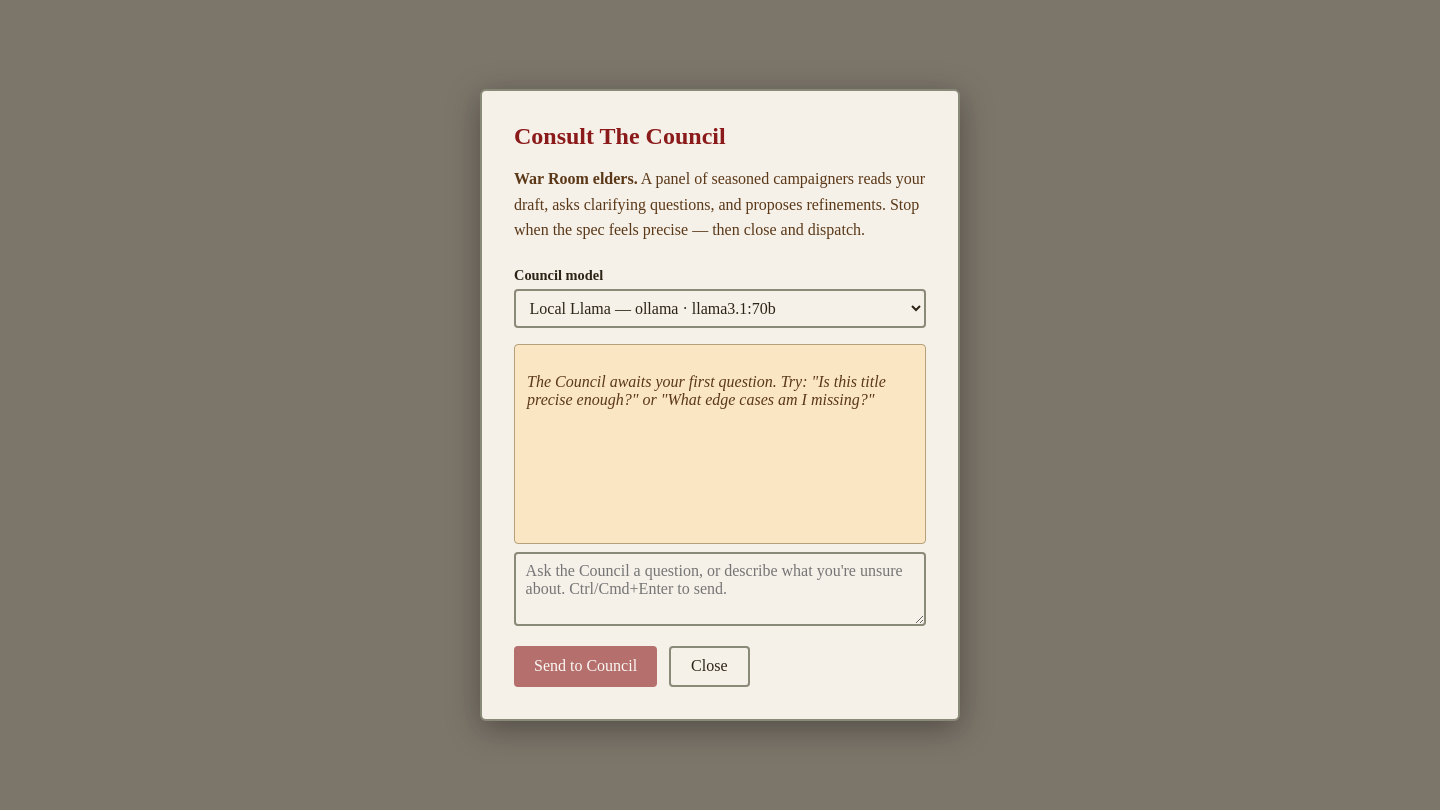
Test: CouncilModal › appends turns to history across multiple sends
Expected: the dropdown with test id "advisor-model-select" shows "Local Llama — ollama · llama3.1:70b", [514, 289, 926, 328]
Type "first" into the text box with test id "advisor-input" at (720, 589), box [514, 552, 926, 626]
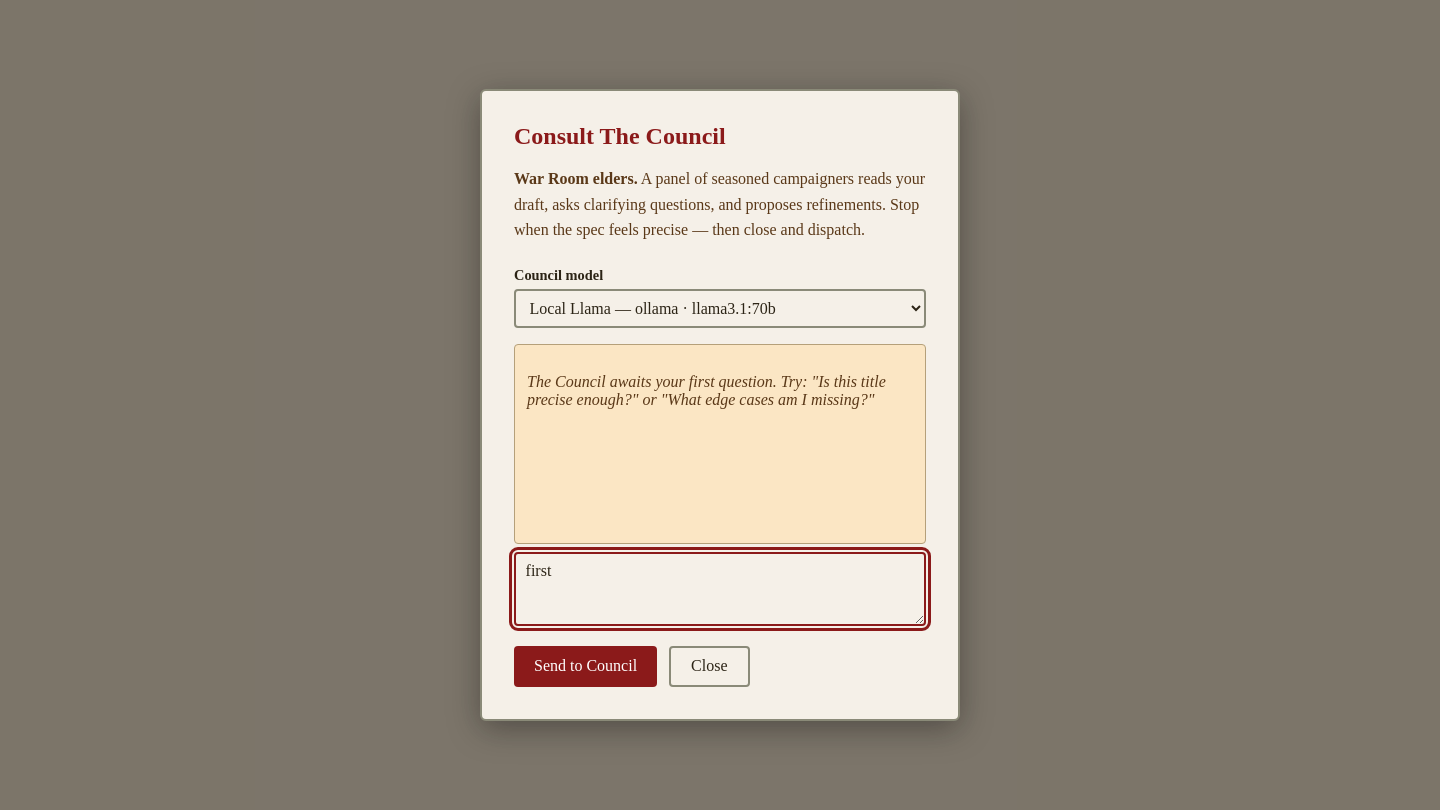
Click the button "Send to Council" at (586, 666), box [514, 646, 657, 687]
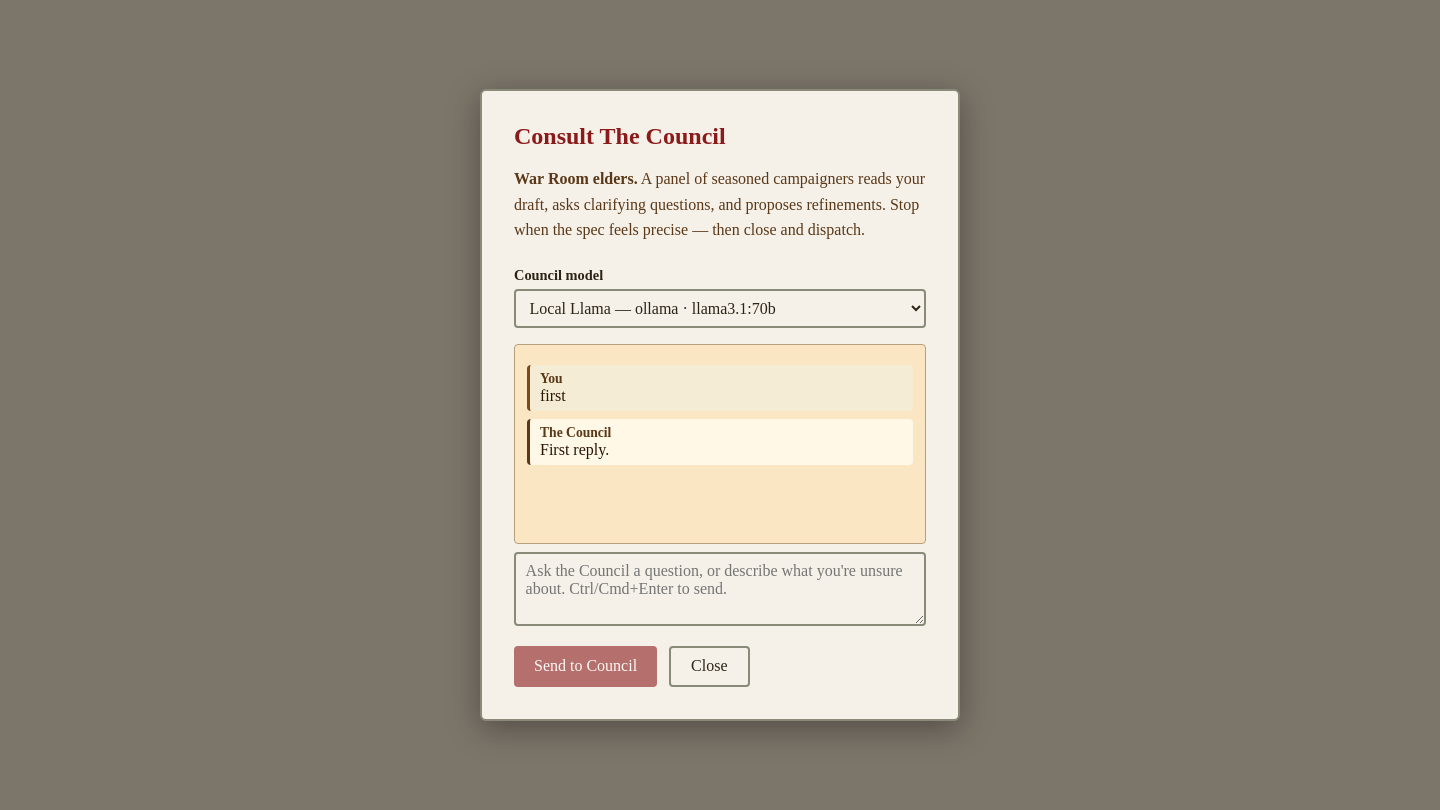
Expected: the text "First reply." is shown, [540, 441, 609, 458]
Type "second" into the text box with test id "advisor-input" at (720, 589), box [514, 552, 926, 626]
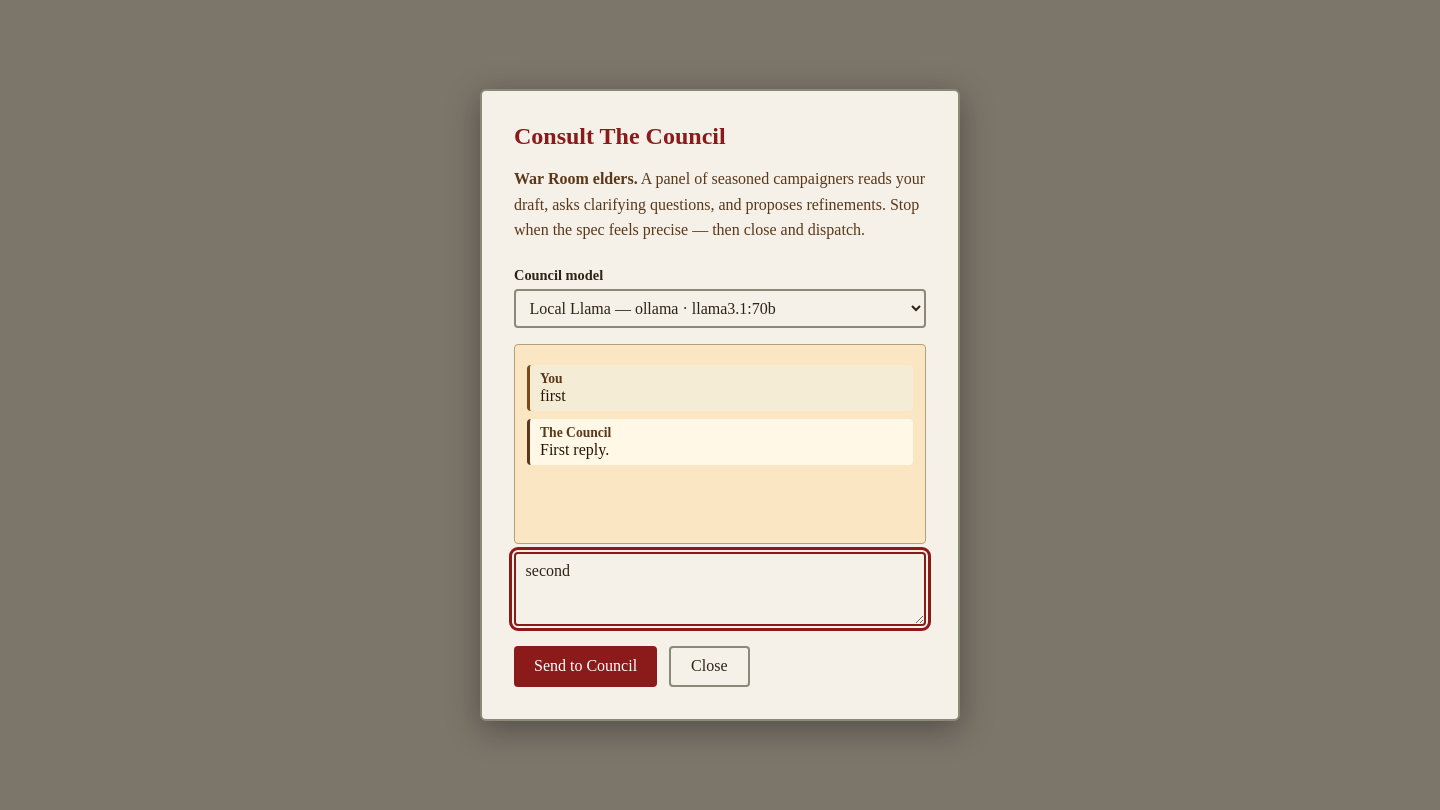
Click the button "Send to Council" at (586, 666), box [514, 646, 657, 687]
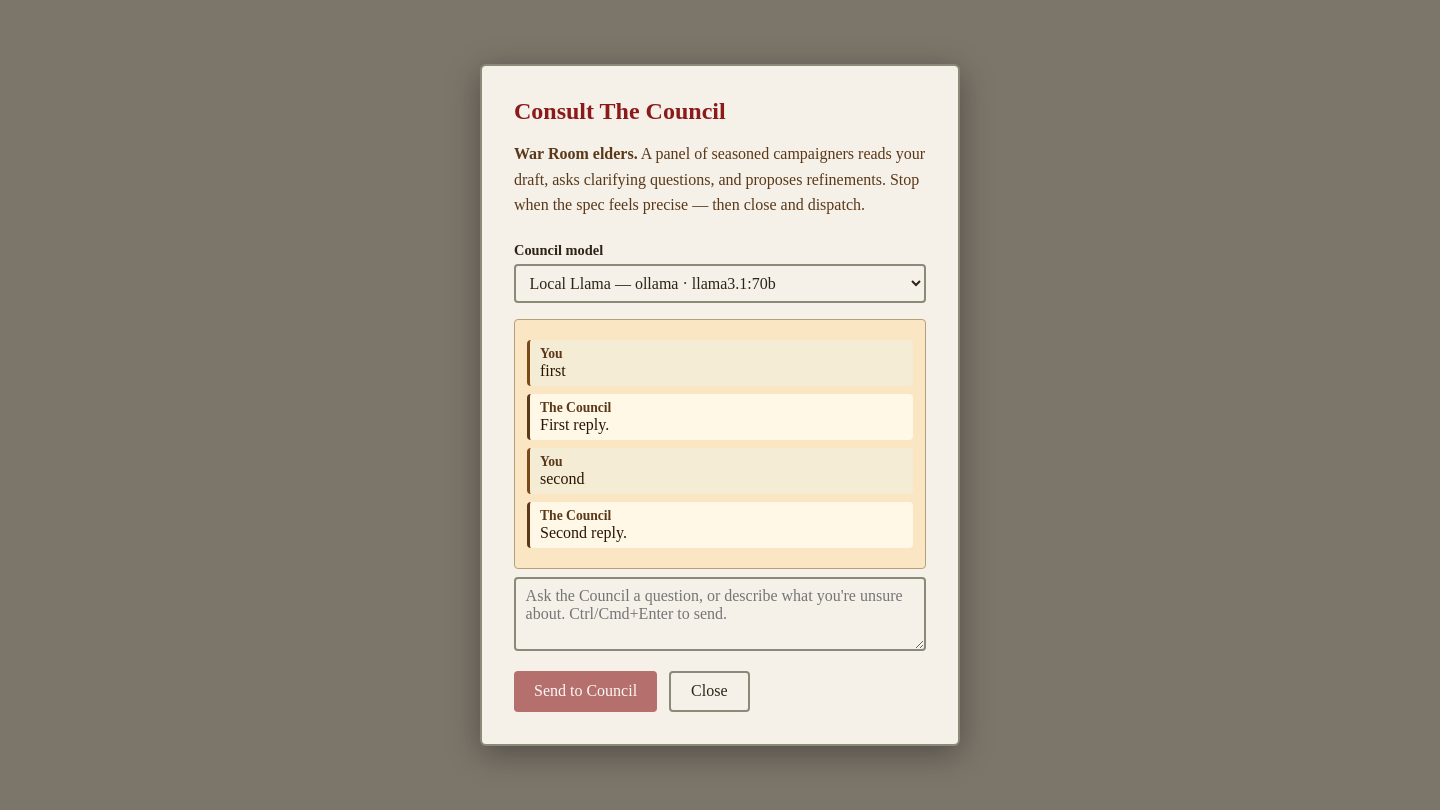
Expected: the text "Second reply." is shown, [540, 524, 627, 541]
